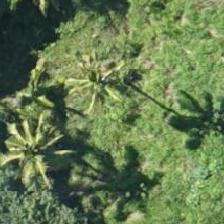coconut_tree: (96, 16, 186, 106), (0, 102, 72, 192)
